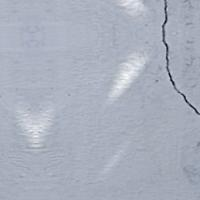crack: (133, 2, 199, 115)
